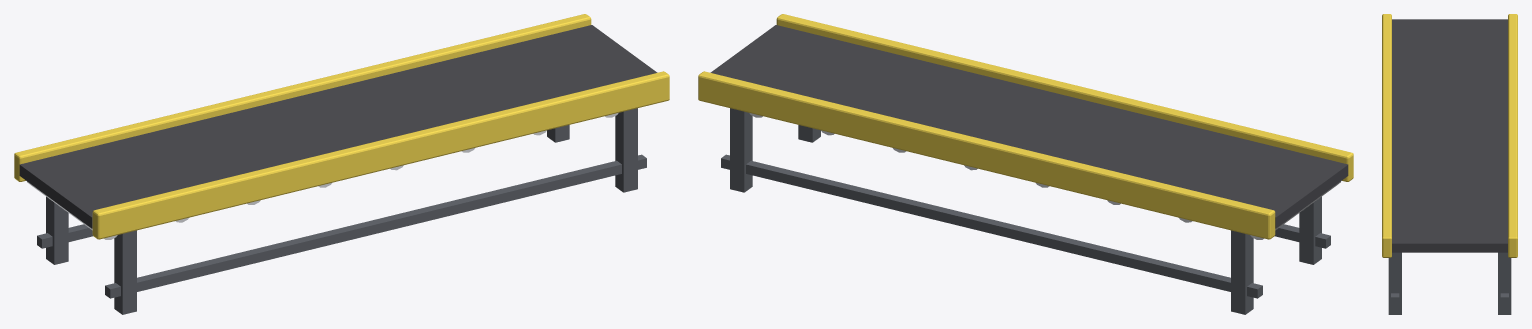
The model's file is CintaTransportadora.fbx.
3 renders of one model, left to right at view 1: azimuth 30°, elevation 25°; view 2: azimuth 150°, elevation 25°; view 3: azimuth 270°, elevation 25°, orthographic. The views are drawn at different scales.
Parts seen in each view (by area): view 1: Cuerpo; view 2: Cuerpo; view 3: Cuerpo.
Part boxes in pixels (box(x1,y1,x2,y2)): Cuerpo: box(14, 14, 669, 314); Cuerpo: box(698, 14, 1353, 314); Cuerpo: box(1382, 14, 1517, 314).
Bounding box in the file's own units: 3.2 × 0.59 × 0.82.
